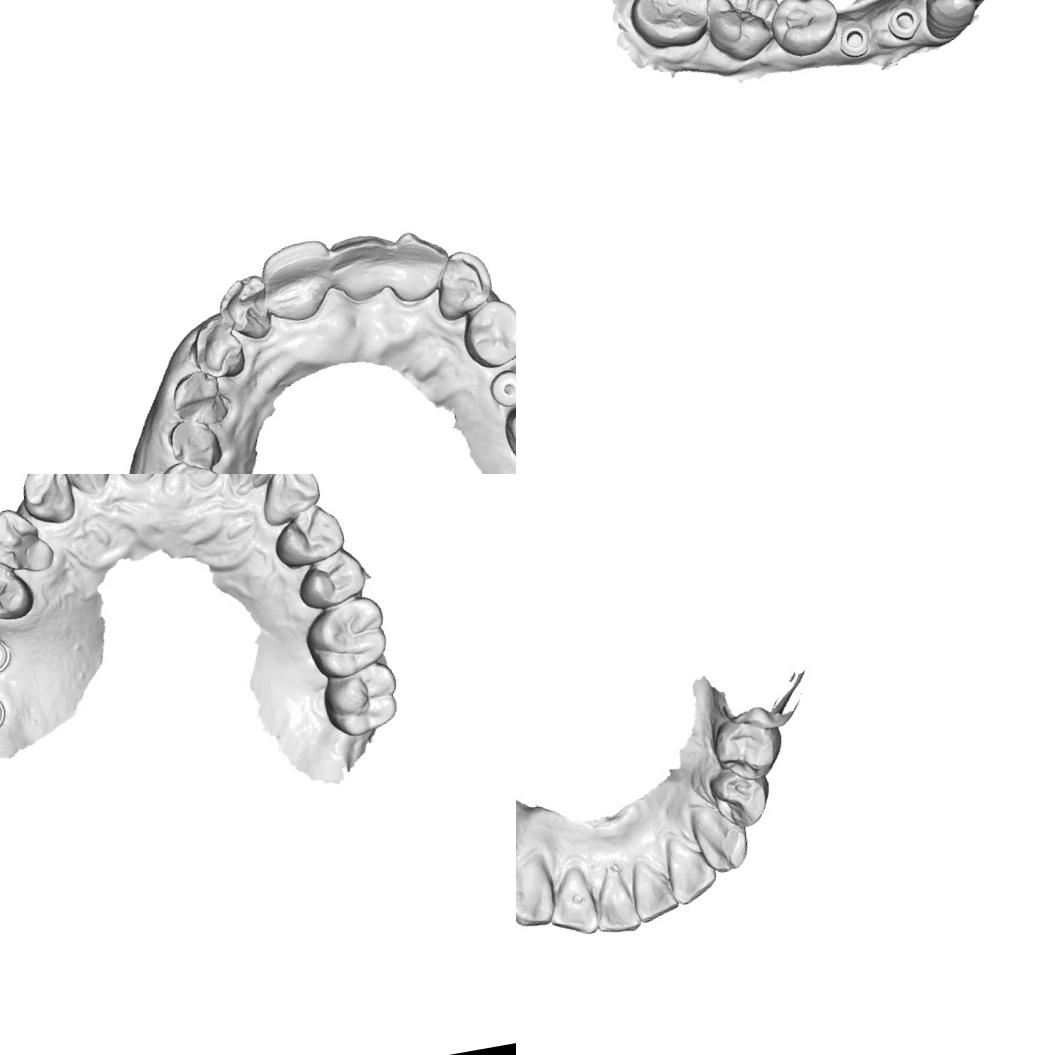canine: (423, 244, 498, 324), (686, 798, 753, 877), (187, 311, 246, 381), (252, 474, 326, 528), (516, 850, 564, 932), (14, 474, 79, 531), (919, 0, 982, 42)
implant: (880, 0, 928, 46), (832, 16, 876, 62), (487, 368, 516, 407), (0, 631, 14, 676), (0, 689, 11, 736)
incisor: (254, 233, 341, 327), (322, 223, 407, 308), (379, 221, 456, 308), (212, 271, 282, 353), (542, 869, 605, 942), (586, 862, 642, 939), (626, 851, 679, 924), (664, 832, 716, 902), (54, 474, 117, 501), (219, 474, 286, 496), (168, 474, 245, 491)
molar: (296, 591, 394, 684), (317, 659, 408, 742), (699, 0, 787, 66), (624, 0, 715, 55), (162, 415, 224, 474), (496, 384, 516, 474), (144, 456, 233, 474)
premolar: (706, 711, 788, 785), (266, 500, 348, 572), (290, 544, 370, 612), (705, 758, 776, 832), (454, 294, 516, 372), (764, 0, 843, 61), (0, 500, 57, 582), (167, 361, 231, 434), (0, 553, 37, 627)
